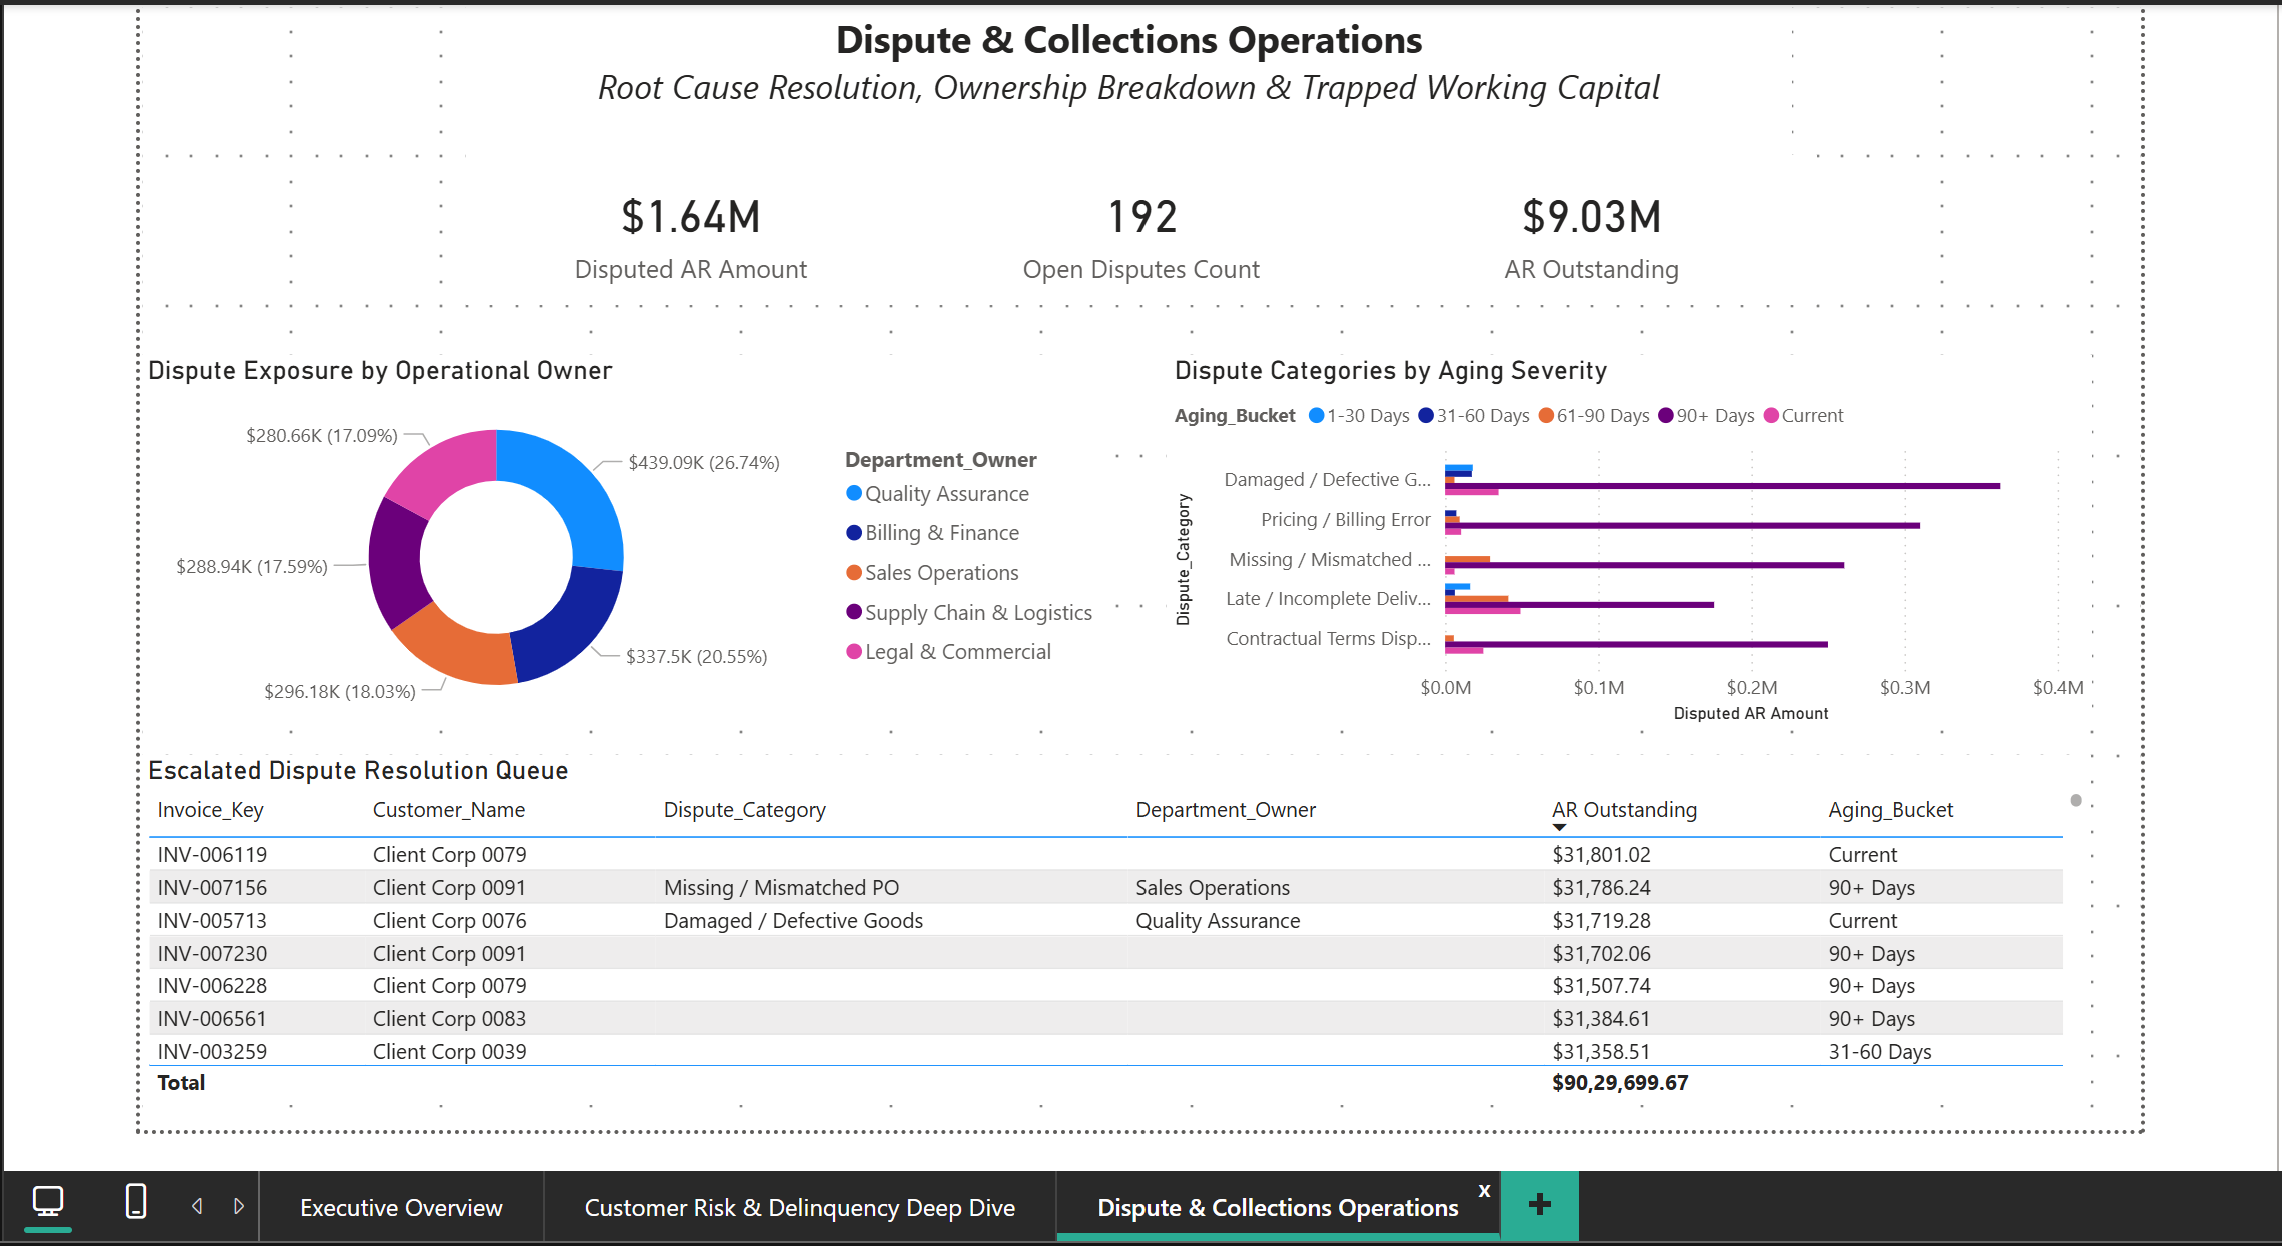

This screenshot's page, from the dashboard's own definition file:
{"tool":"powerbi","page":{"name":"Dispute & Collections Operations","canvas":[1280,720],"ordinal":2},"visuals":[{"type":"textbox","box":[208,0,848,96],"z":0},{"type":"card","fields":{"Values":["_Measures.AR Outstanding"]},"box":[784,96,288,96],"z":1},{"type":"card","fields":{"Values":["_Measures.Open Disputes Count"]},"box":[496,96,288,96],"z":2},{"type":"card","fields":{"Values":["_Measures.Disputed AR Amount"]},"box":[208,96,288,96],"z":3},{"type":"donutChart","title":"Dispute Exposure by Operational Owner","fields":{"Category":["Dim_Dispute_Reason.Department_Owner"],"Y":["_Measures.Disputed AR Amount"]},"box":[0,224,624,240],"z":4},{"type":"clusteredBarChart","title":"Dispute Categories by Aging Severity","fields":{"Category":["Dim_Dispute_Reason.Dispute_Category"],"Y":["_Measures.Disputed AR Amount"],"Series":["Fact_AR_Invoices.Aging_Bucket"]},"box":[656,224,592,240],"z":5},{"type":"tableEx","title":"Escalated Dispute Resolution Queue","fields":{"Values":["Fact_AR_Invoices.Invoice_Key","Dim_Customer.Customer_Name","Dim_Dispute_Reason.Dispute_Category","Dim_Dispute_Reason.Department_Owner","_Measures.AR Outstanding","Fact_AR_Invoices.Aging_Bucket"]},"box":[0,480,1248,224],"z":6}]}

Visuals, with their boxes on the page's 1280x720 design canvas (x1, y1, x2, y2). These are canvas units, not pixel positions in the 2282x1246 screenshot, which may show the page scaled, cropped or inside an application window:
textbox: {"x1": 208, "y1": 0, "x2": 1056, "y2": 96}
card - _Measures.AR Outstanding: {"x1": 784, "y1": 96, "x2": 1072, "y2": 192}
card - _Measures.Open Disputes Count: {"x1": 496, "y1": 96, "x2": 784, "y2": 192}
card - _Measures.Disputed AR Amount: {"x1": 208, "y1": 96, "x2": 496, "y2": 192}
"Dispute Exposure by Operational Owner" donutChart: {"x1": 0, "y1": 224, "x2": 624, "y2": 464}
"Dispute Categories by Aging Severity" clusteredBarChart: {"x1": 656, "y1": 224, "x2": 1248, "y2": 464}
"Escalated Dispute Resolution Queue" tableEx: {"x1": 0, "y1": 480, "x2": 1248, "y2": 704}
